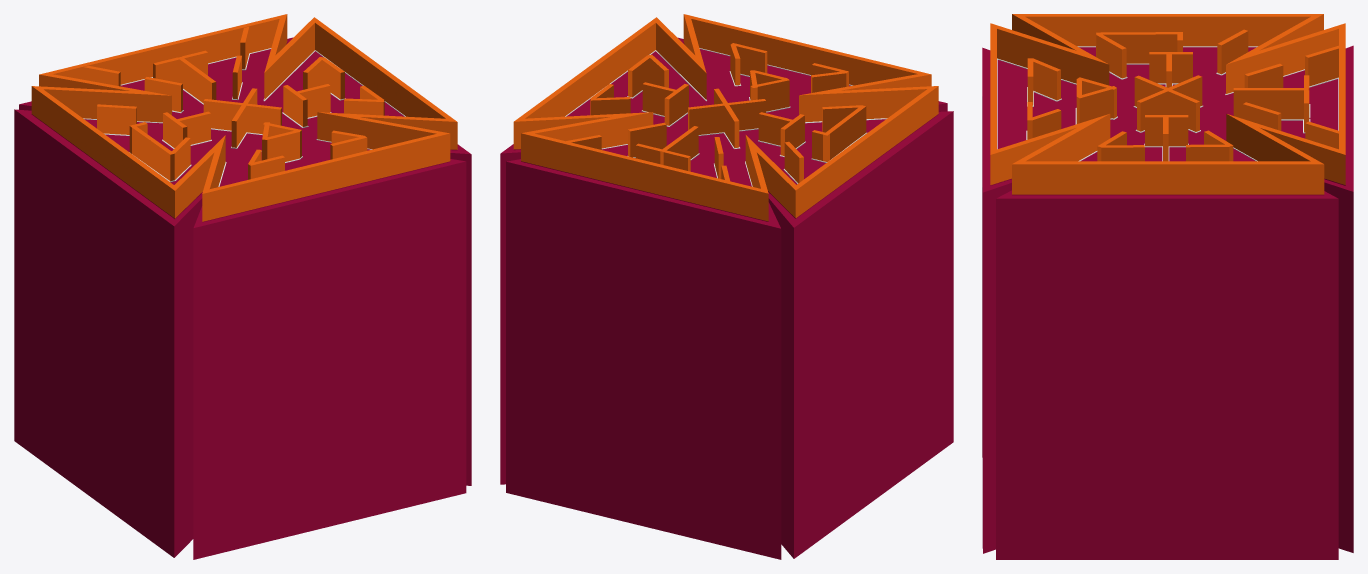
The model's file is Level_21.FBX.
3 views of the same model, side by side, from view 1: azimuth 30°, elevation 25°; view 2: azimuth 150°, elevation 25°; view 3: azimuth 270°, elevation 25° (orthographic). The views are drawn at different scales.
Parts seen in each view (by area): view 1: Level_21; view 2: Level_21; view 3: Level_21.
Boxes of the visible parts, x1,y1,x2,y2 form: Level_21: [14, 14, 471, 559]; Level_21: [500, 14, 953, 559]; Level_21: [982, 14, 1353, 559].
Bounding box in the file's own units: 293 × 340 × 291.
